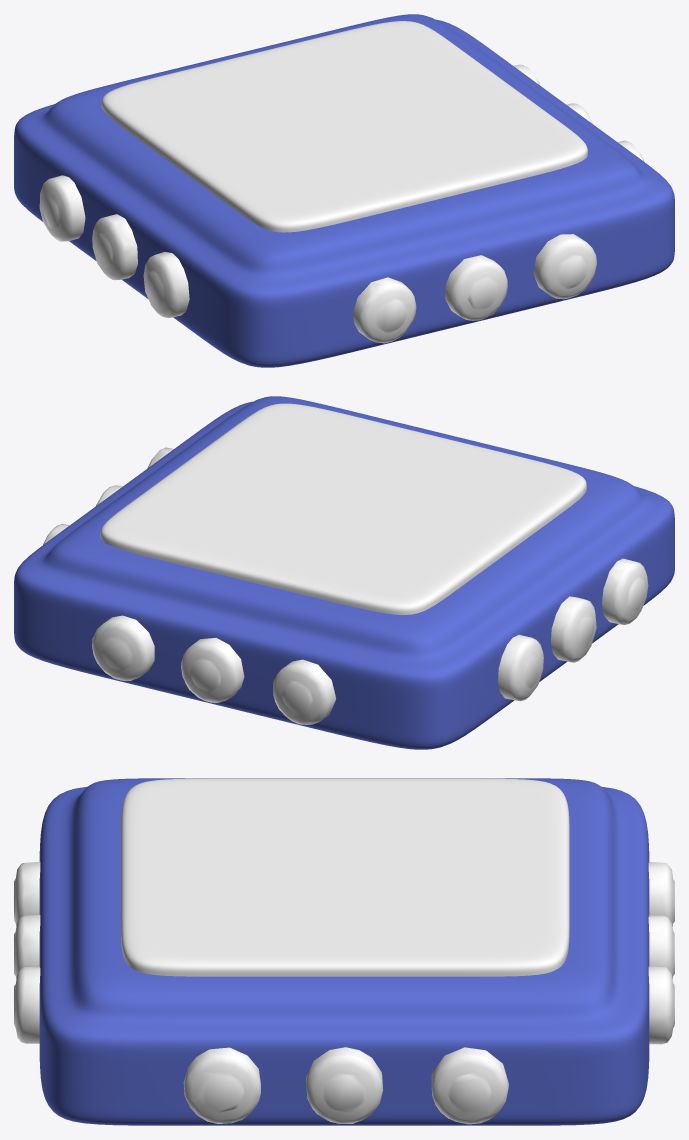
File: baseModelH.glb
3 views of the same model, one above another, from view 1: azimuth 30°, elevation 25°; view 2: azimuth 150°, elevation 25°; view 3: azimuth 270°, elevation 25° (orthographic). The views are drawn at different scales.
Parts seen in each view (by area): view 1: Cube002, Cube005, Circle004, Circle007; view 2: Cube002, Cube005, Circle004, Circle007; view 3: Cube002, Cube005, Circle007, Circle004.
Boxes of the visible parts, <box> form: Cube002: <box>14,14,674,367</box>; Cube005: <box>101,21,587,232</box>; Circle004: <box>353,234,596,343</box>; Circle007: <box>39,64,644,318</box>; Cube002: <box>14,396,674,749</box>; Cube005: <box>100,403,586,614</box>; Circle004: <box>92,615,336,724</box>; Circle007: <box>43,447,648,701</box>; Cube002: <box>39,778,649,1125</box>; Cube005: <box>121,778,569,976</box>; Circle007: <box>183,1047,508,1124</box>; Circle004: <box>14,861,674,1044</box>.
Bounding box in the file's own units: 1 × 0.2311 × 1.
